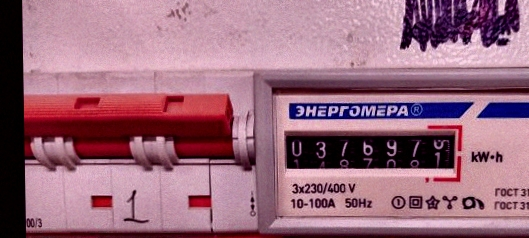0: (289, 137, 303, 157)
1: (432, 150, 443, 168)
3: (313, 138, 327, 159)
6: (360, 135, 374, 156)
7: (336, 136, 350, 157), (408, 136, 421, 158)
9: (384, 136, 397, 157)
screen: (276, 119, 467, 185)
